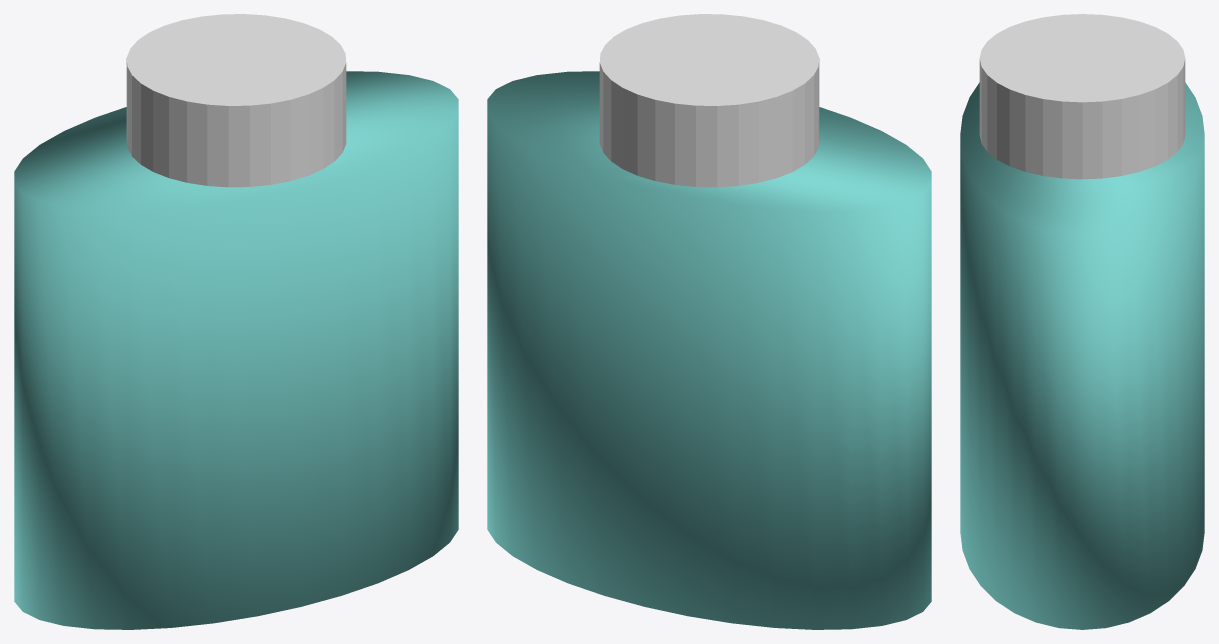
File: Desinfektionsmittel.fbx
3 views of the same model, side by side, from view 1: azimuth 30°, elevation 25°; view 2: azimuth 150°, elevation 25°; view 3: azimuth 270°, elevation 25° (orthographic). The views are drawn at different scales.
Parts seen in each view (by area): view 1: Cylinder, Cylinder.001; view 2: Cylinder, Cylinder.001; view 3: Cylinder, Cylinder.001.
Part boxes in pixels (left/top/right/bottom): Cylinder: left=14, top=71, right=458, bottom=629; Cylinder.001: left=126, top=14, right=346, bottom=187; Cylinder: left=487, top=71, right=931, bottom=629; Cylinder.001: left=599, top=14, right=819, bottom=187; Cylinder: left=960, top=82, right=1204, bottom=629; Cylinder.001: left=979, top=14, right=1185, bottom=179.
Size of the model in its own units: 273 by 305 by 143.
